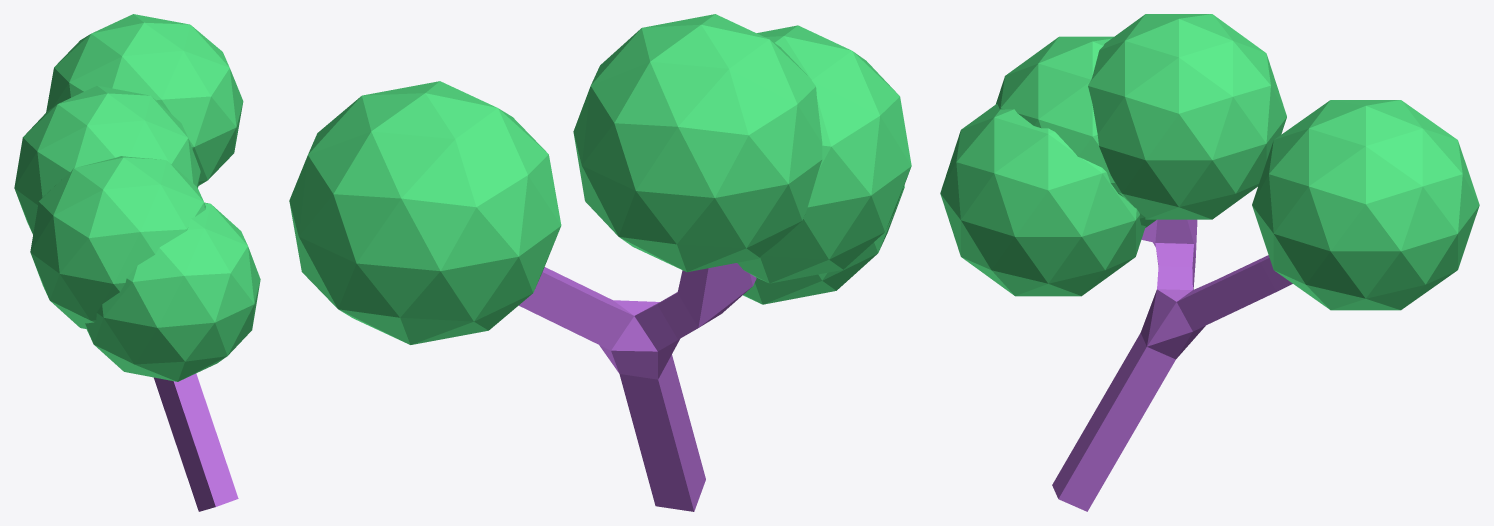
The model's file is tree2.fbx.
The picture shows the model from 3 angles, left to right: view 1: azimuth 30°, elevation 25°; view 2: azimuth 150°, elevation 25°; view 3: azimuth 270°, elevation 25°; orthographic projection. The views are drawn at different scales.
Parts seen in each view (by area): view 1: Icosphere.001, Icosphere.004, Icosphere, Icosphere.002, Cube; view 2: Icosphere, Icosphere.002, Icosphere.004, Cube, Icosphere.001; view 3: Icosphere, Icosphere.002, Icosphere.001, Cube, Icosphere.004.
Boxes of the visible parts, x1=… form: Icosphere.001: x1=85, y1=202, x2=260, y2=381; Icosphere.004: x1=30, y1=156, x2=205, y2=329; Icosphere: x1=46, y1=14, x2=243, y2=185; Icosphere.002: x1=14, y1=85, x2=200, y2=234; Cube: x1=153, y1=373, x2=238, y2=511; Icosphere: x1=289, y1=81, x2=561, y2=344; Icosphere.002: x1=573, y1=14, x2=822, y2=272; Icosphere.004: x1=737, y1=25, x2=911, y2=283; Cube: x1=519, y1=263, x2=756, y2=511; Icosphere.001: x1=743, y1=185, x2=904, y2=304; Icosphere: x1=1252, y1=100, x2=1479, y2=310; Icosphere.002: x1=1088, y1=14, x2=1286, y2=219; Icosphere.001: x1=940, y1=104, x2=1145, y2=296; Cube: x1=1052, y1=219, x2=1292, y2=511; Icosphere.004: x1=996, y1=36, x2=1156, y2=227.
Bounding box in the file's own units: 276 × 346 × 374.
